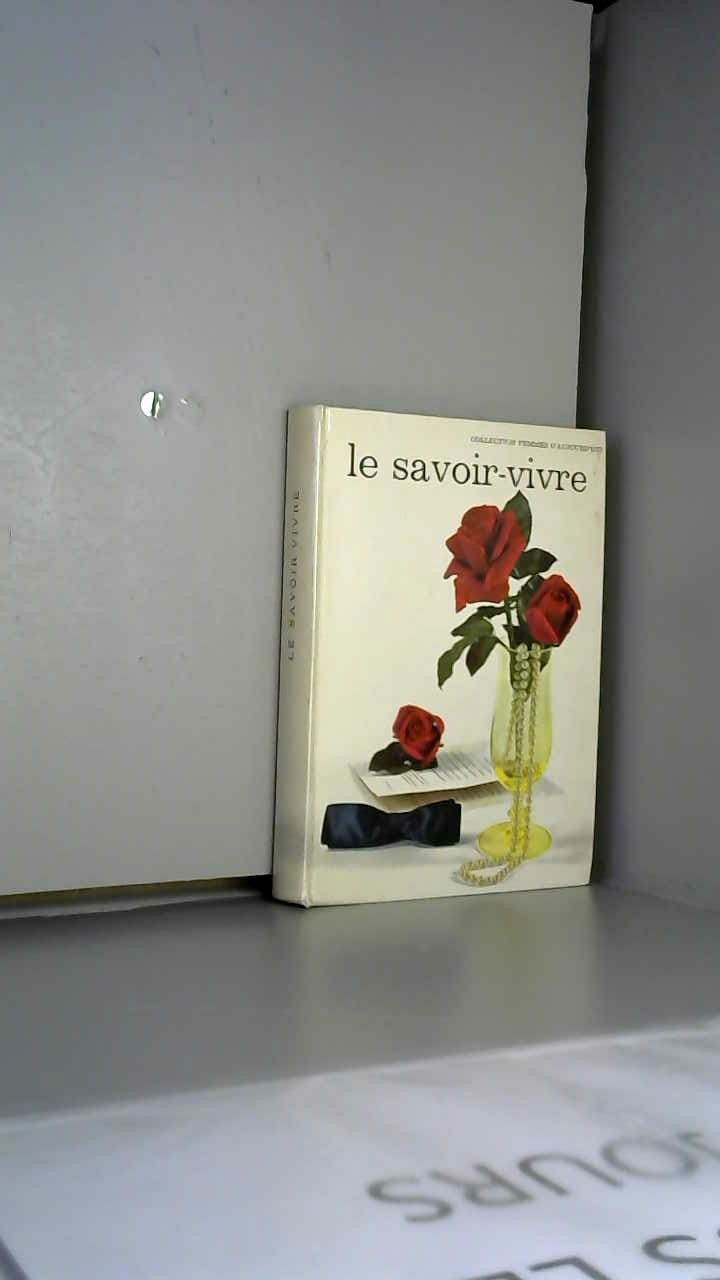book: (280, 370, 718, 940)
